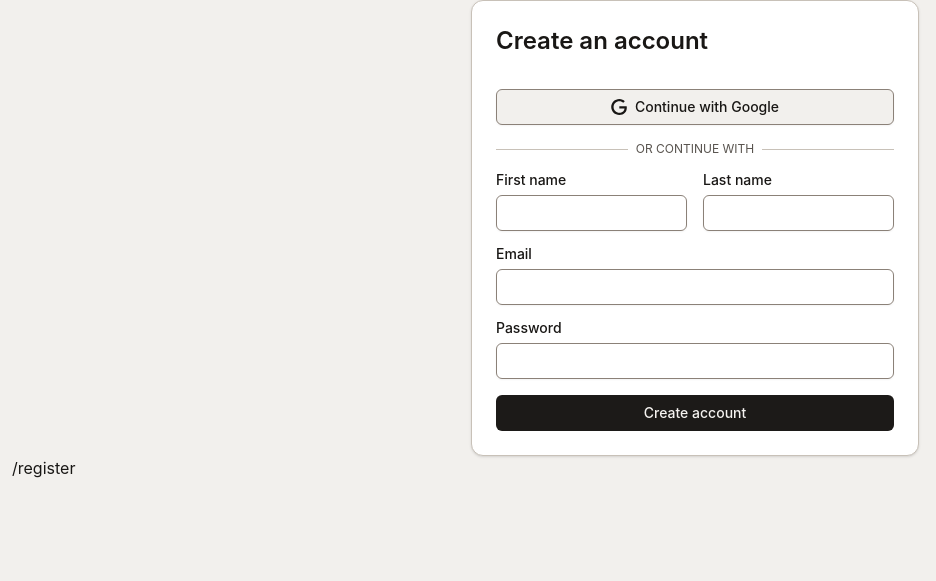
it: Register › renders the localized duplicate-account error
Type "Ada" into the field labelled "First name" at (592, 213), box 496,195 -> 687,231
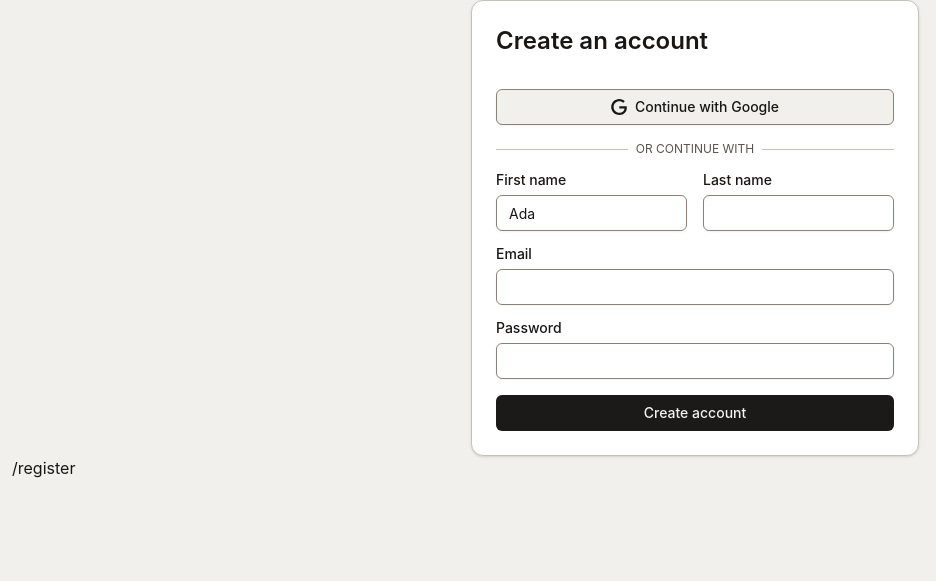
Type "Lovelace" into the field labelled "Last name" at (798, 213), box 703,195 -> 894,231
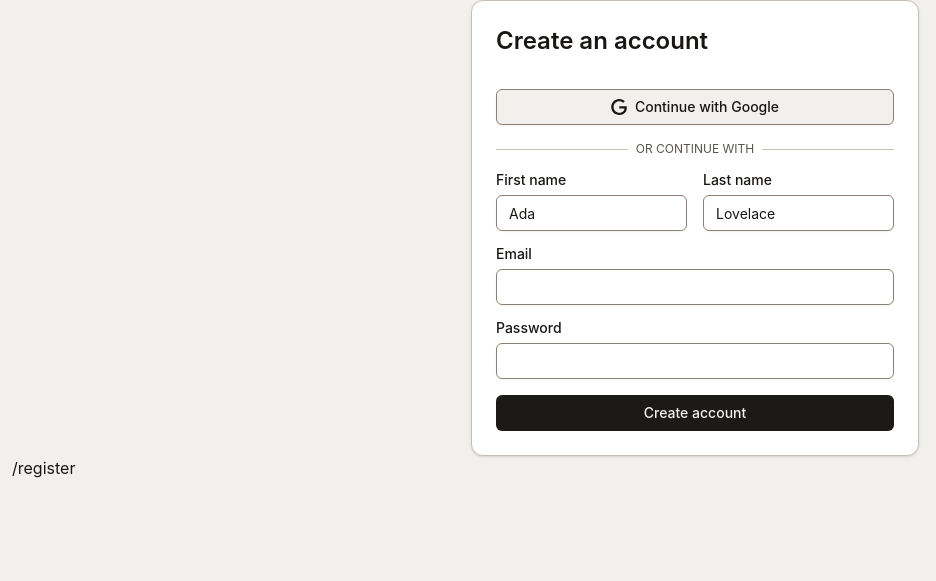
Type "ada@b.co" into the field labelled "Email" at (695, 287), box 496,269 -> 894,305
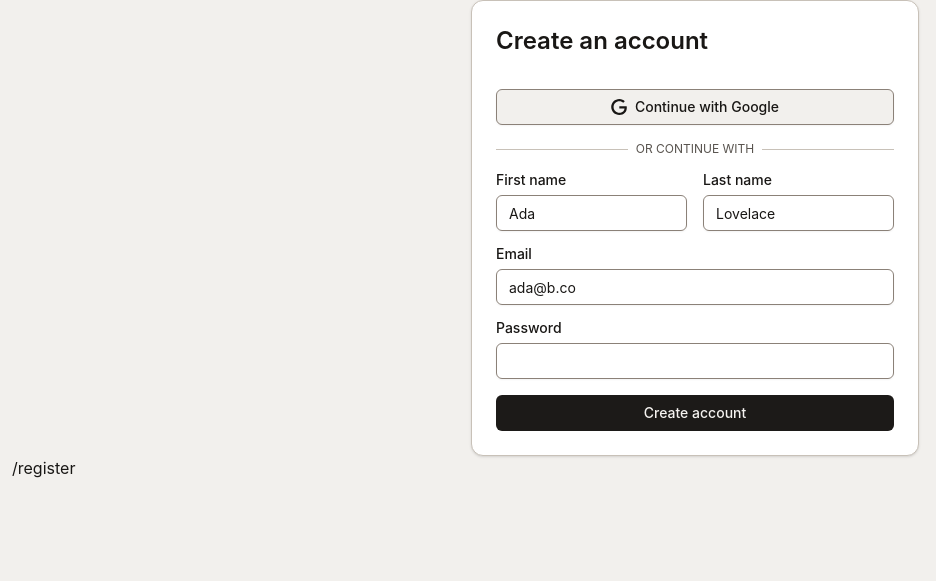
Type "longenough" into the password field labelled "Password" at (695, 361), box 496,343 -> 894,379
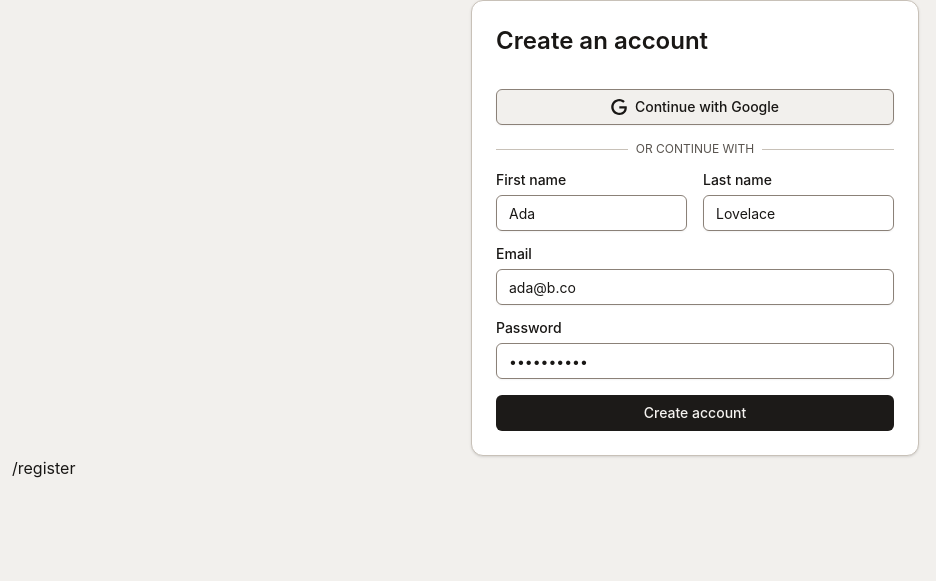
Click the button "Create account" at (695, 413), box 496,395 -> 894,431
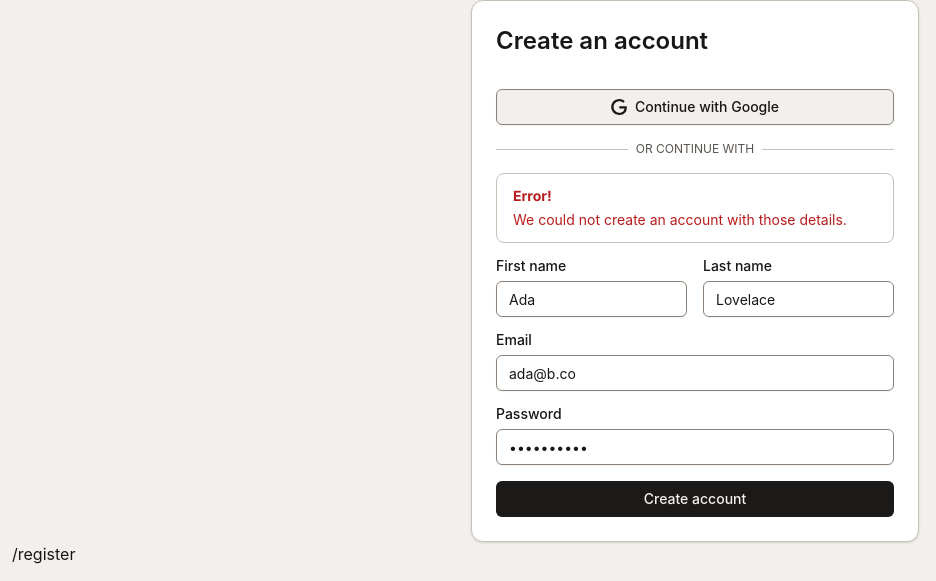
Check: the text with test id "location" reads "/register", box 12,544 -> 75,564
Check: the message shows "We could not create an account with those details.", box 513,211 -> 847,228
